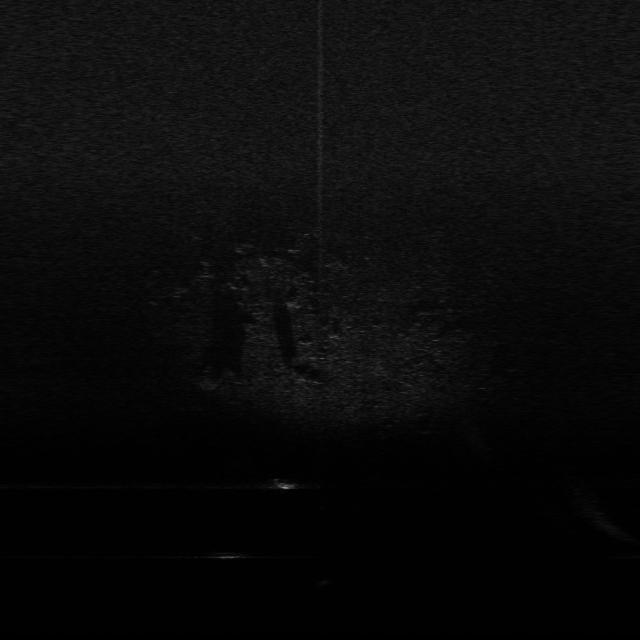cube: (208, 549, 250, 560)
square cage: (264, 477, 300, 492)
